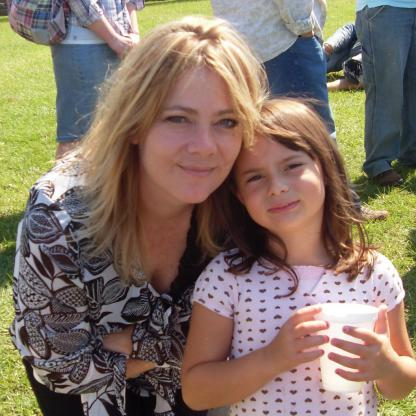face: (143, 77, 245, 204), (239, 137, 323, 227)
